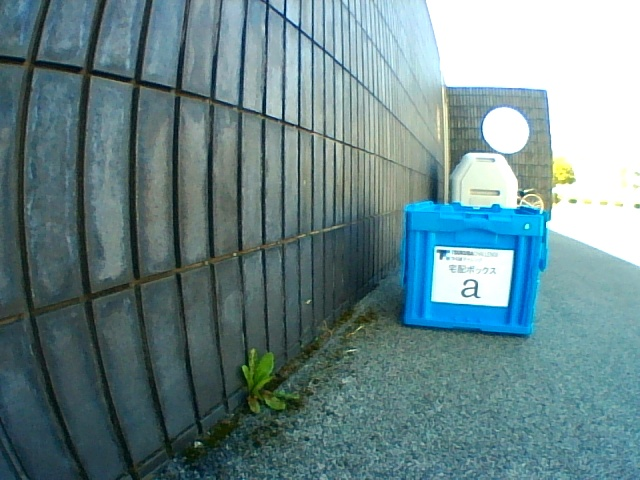blue_box: (399, 202, 551, 337)
tag_a: (436, 250, 509, 301)
